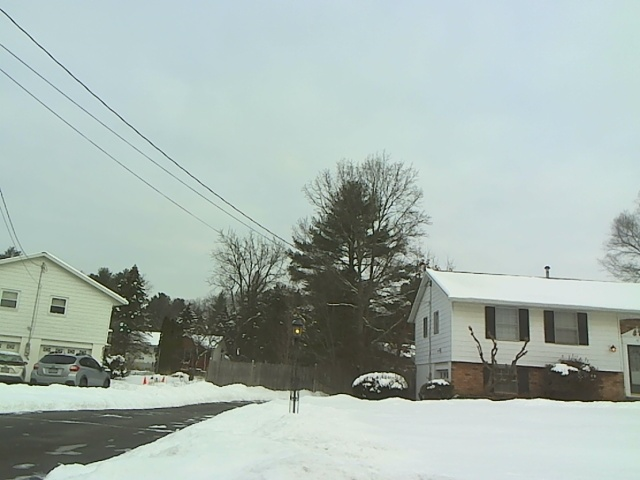Ploughed: (4, 398, 242, 467)
